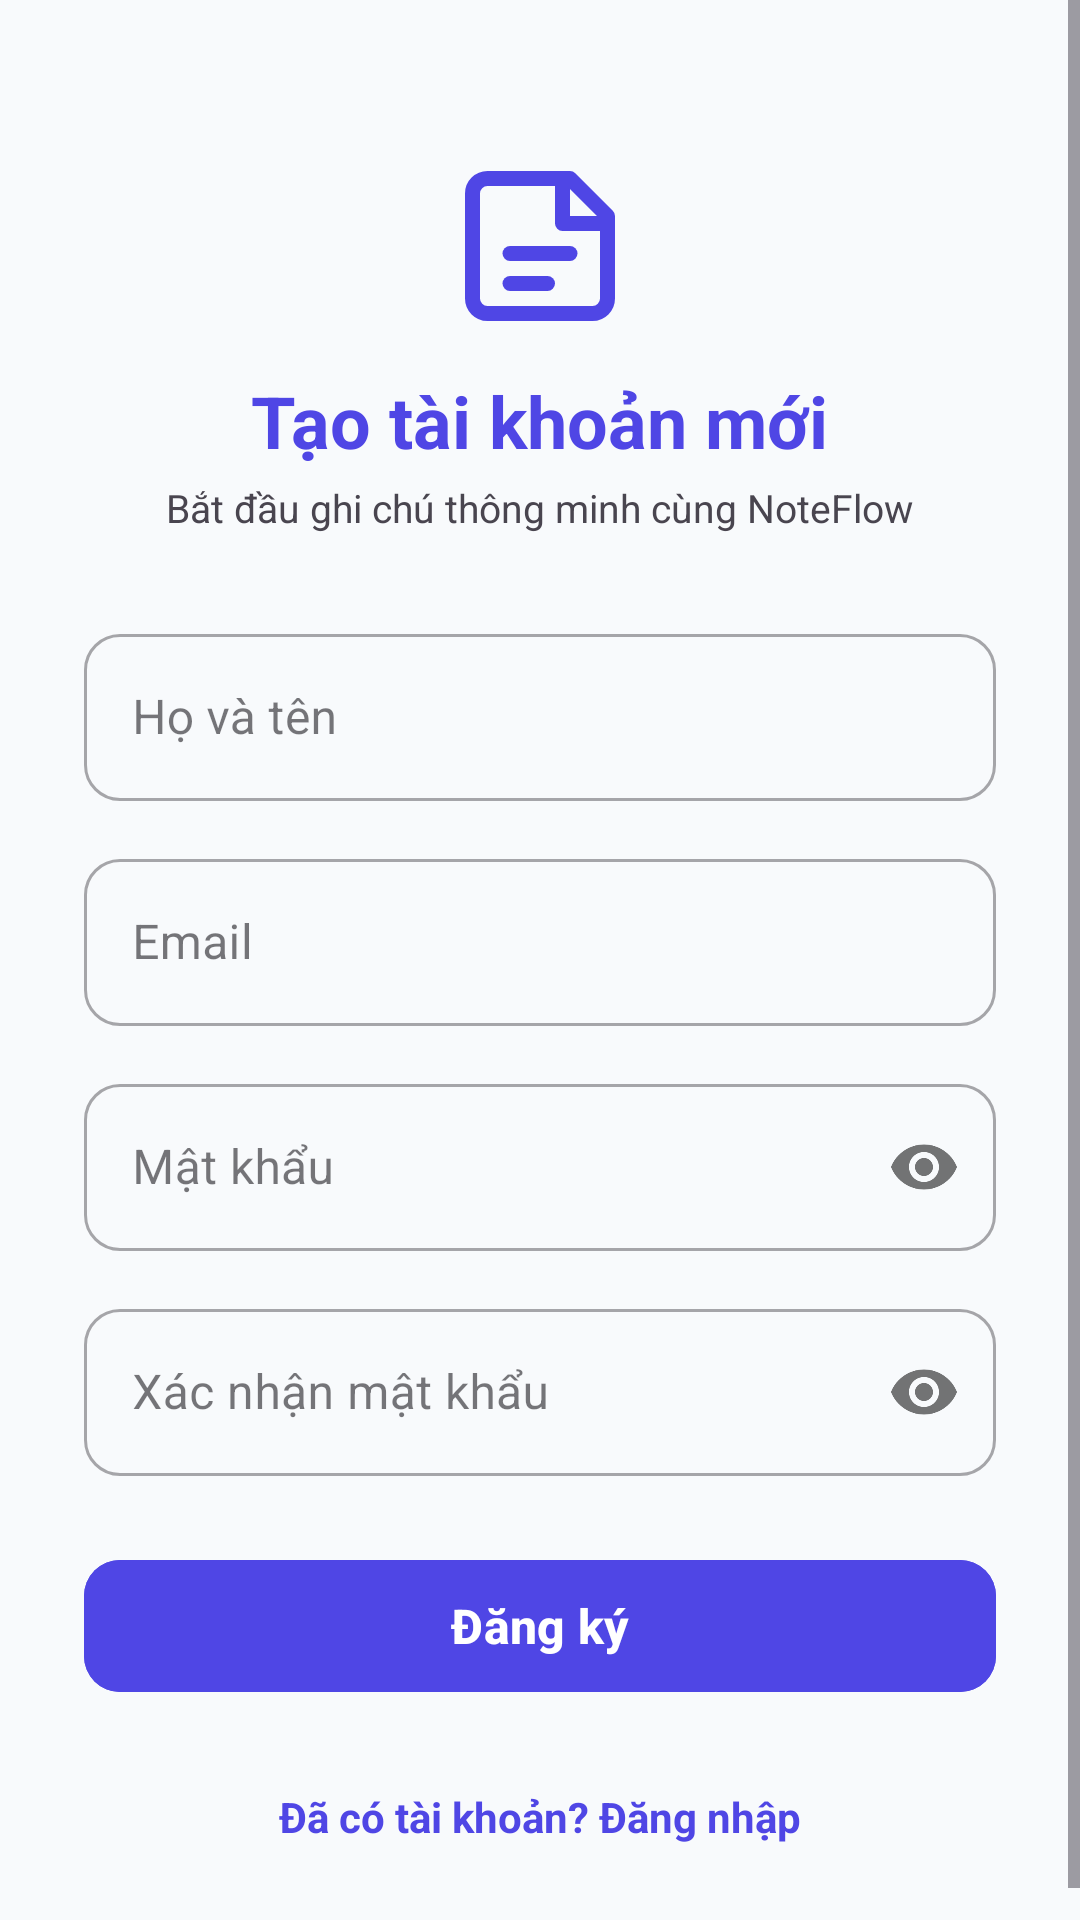

Named icons in this screenshot (1080px×1920px) and their bounding boxes, (x1, y1, x2, y2):
notes: (465, 171, 615, 321)
